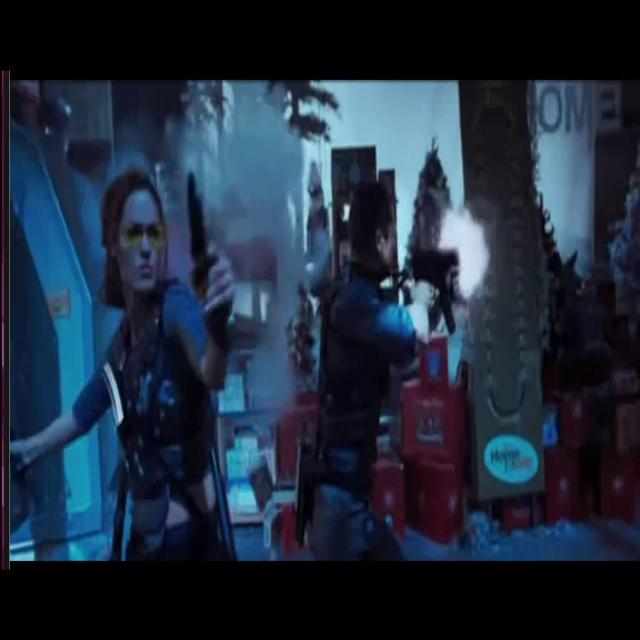weapons: (168, 130, 244, 357)
